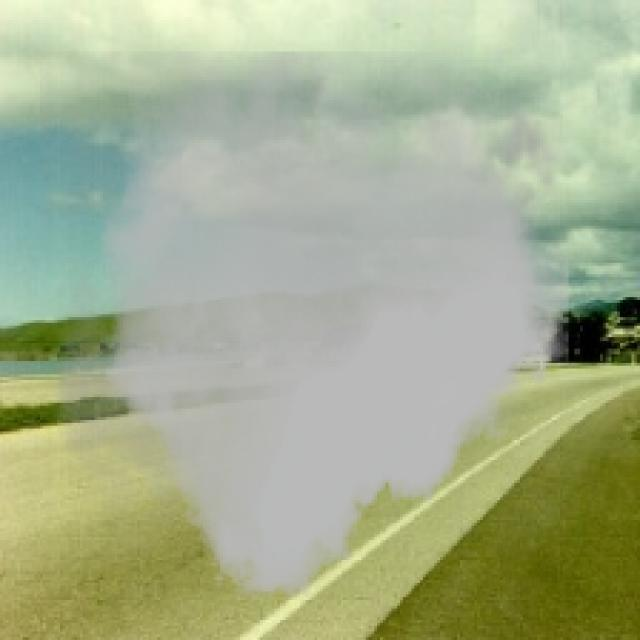smoke: (40, 52, 577, 597)
